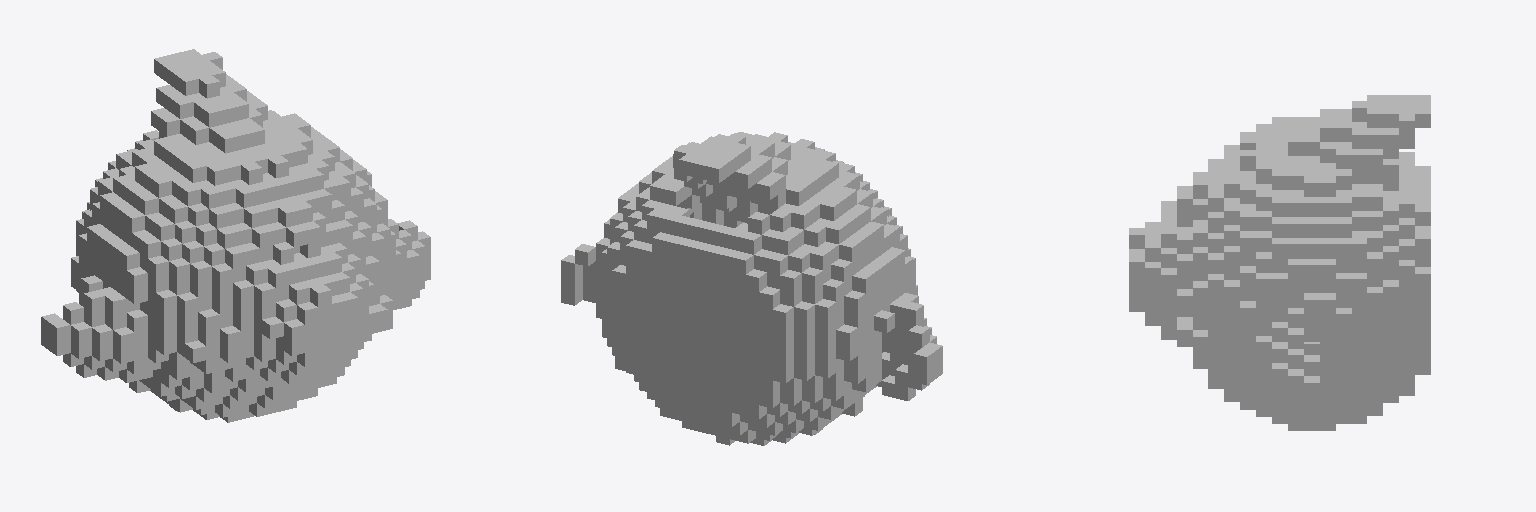
The model's file is Voxel Mesh [SMC Mesh].obj.
3 views of the same model, side by side, from view 1: azimuth 30°, elevation 25°; view 2: azimuth 150°, elevation 25°; view 3: azimuth 270°, elevation 25° (orthographic).
Visible parts, largest first — view 1: _Combined Mesh [Voxel Mesh]; view 2: _Combined Mesh [Voxel Mesh]; view 3: _Combined Mesh [Voxel Mesh].
Part boxes in pixels (left/top/right/bottom): _Combined Mesh [Voxel Mesh]: left=41, top=49, right=430, bottom=422; _Combined Mesh [Voxel Mesh]: left=561, top=132, right=942, bottom=445; _Combined Mesh [Voxel Mesh]: left=1129, top=95, right=1430, bottom=430.
Bounding box in the file's own units: 1.38 × 1.05 × 0.9676.